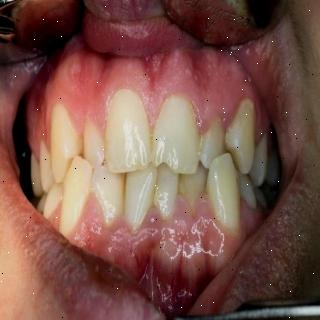Gum Swelling: (74, 202, 234, 250), (186, 84, 271, 130)
calculus: (165, 175, 192, 203)
maligned: (204, 153, 239, 235), (58, 157, 94, 233), (122, 162, 154, 230), (201, 115, 229, 170), (80, 116, 107, 165)
plaque: (227, 84, 266, 146)
